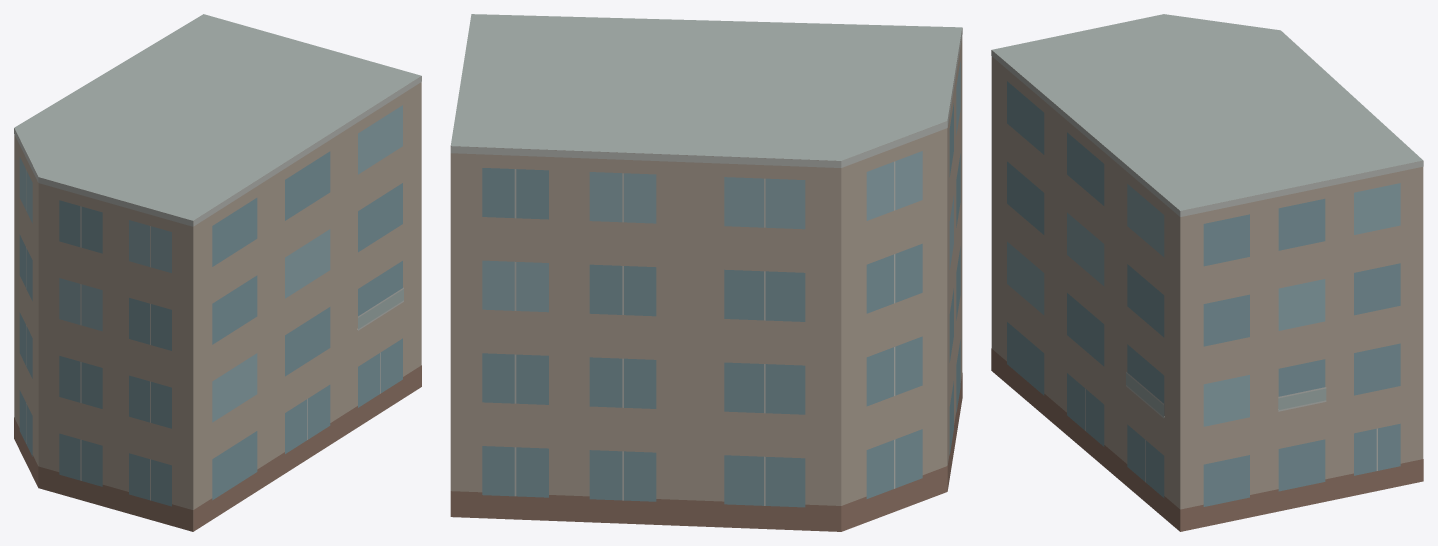
File: survey-upis-32707549.glb
3 views of the same model, side by side, from view 1: azimuth 30°, elevation 25°; view 2: azimuth 150°, elevation 25°; view 3: azimuth 270°, elevation 25° (orthographic). The views are drawn at different scales.
Parts seen in each view (by area): view 1: survey-upis-32707549.tmp; view 2: survey-upis-32707549.tmp; view 3: survey-upis-32707549.tmp.
Part boxes in pixels (left/top/right/bottom): survey-upis-32707549.tmp: left=14, top=14, right=421, bottom=531; survey-upis-32707549.tmp: left=450, top=14, right=962, bottom=531; survey-upis-32707549.tmp: left=991, top=14, right=1423, bottom=531.
Bounding box in the file's own units: 16.73 × 12.7 × 15.5.
